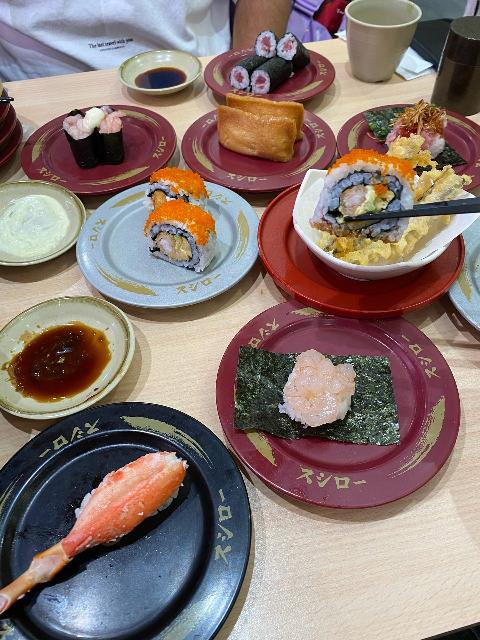janback: (38, 395, 244, 636)
janred: (221, 296, 452, 495), (244, 176, 455, 288), (27, 100, 172, 177), (190, 110, 306, 188), (334, 118, 480, 175), (0, 139, 25, 163), (0, 98, 19, 129), (0, 78, 14, 112)
janwhite: (112, 212, 260, 301), (457, 194, 480, 328)
